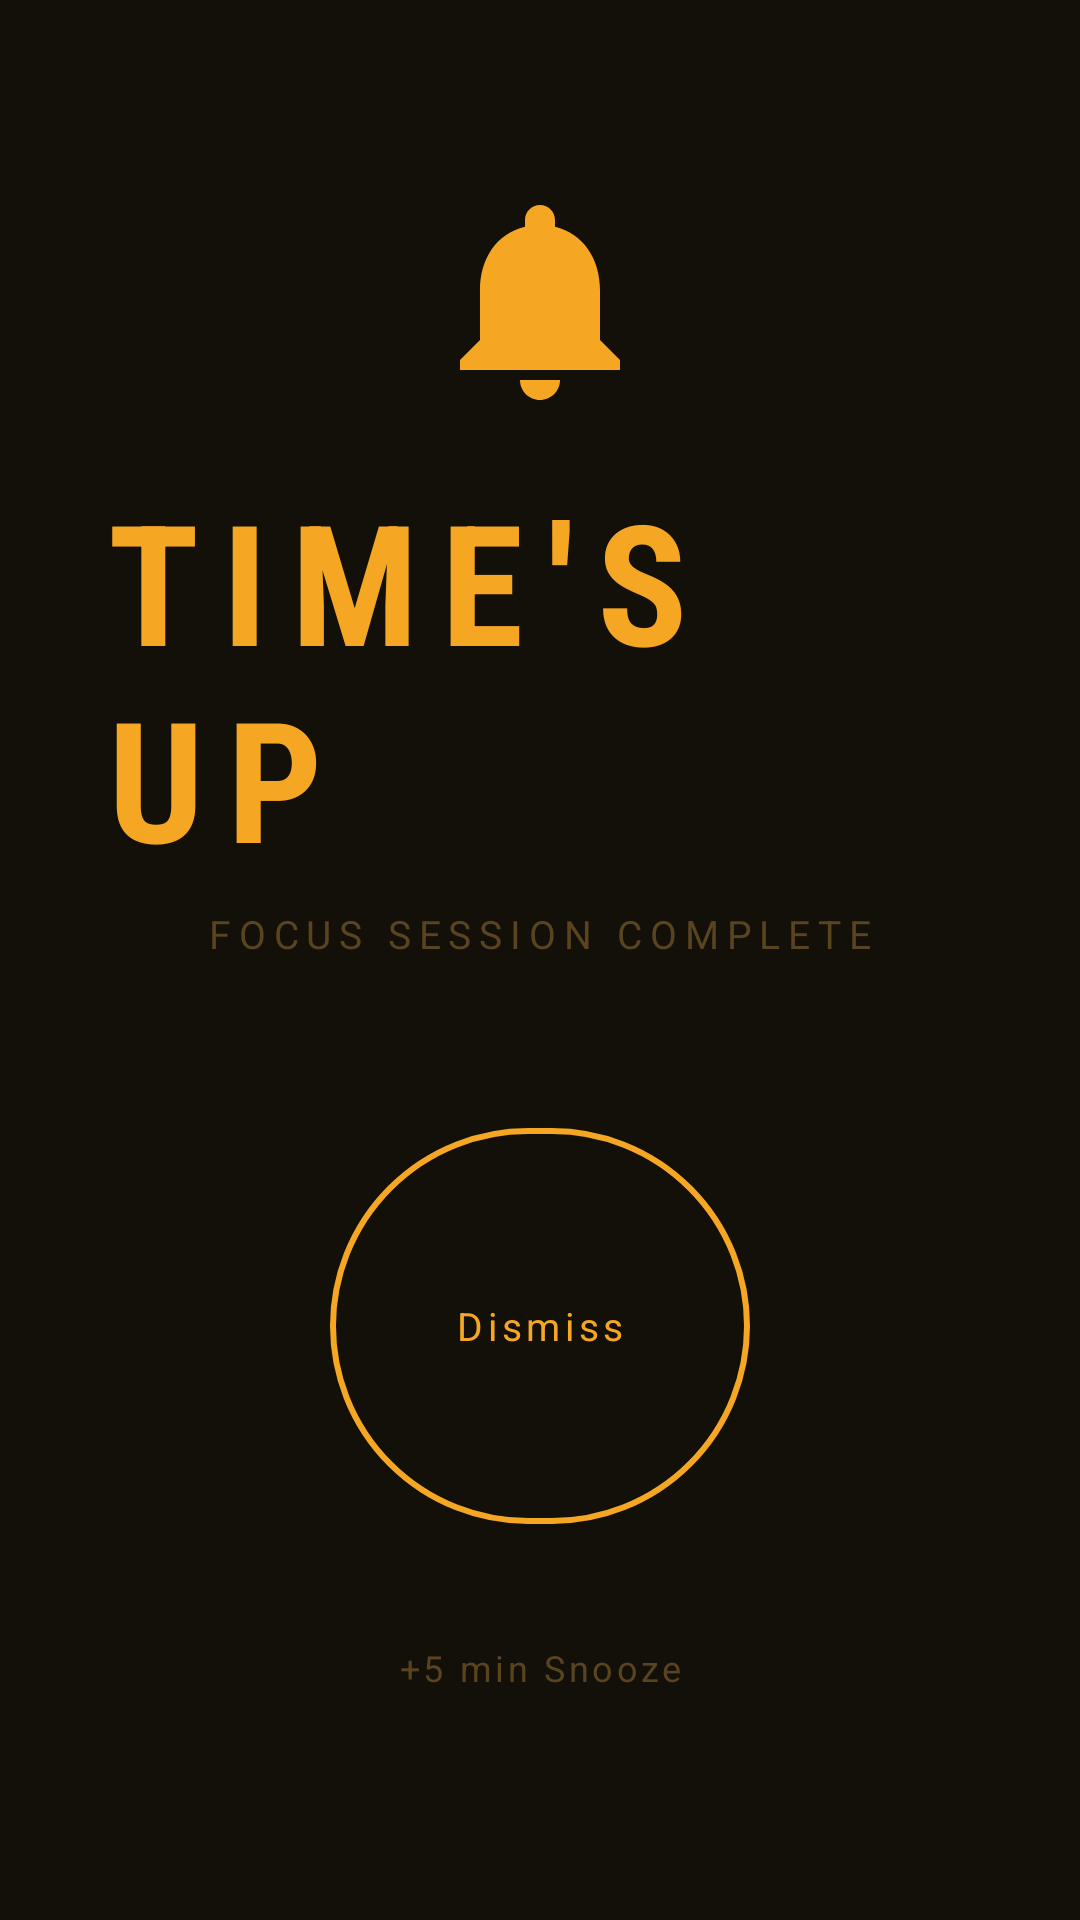

Icons on this 1080px x 1920px Android screen, each with its box as (x1, y1, x2, y2):
alarm bell: (460, 205, 620, 400)
